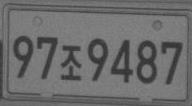4: (110, 39, 133, 83)
7: (160, 41, 183, 85), (36, 36, 57, 79)
8: (135, 39, 158, 84)
9: (11, 34, 33, 78), (87, 37, 108, 81)
조: (60, 44, 82, 80)
